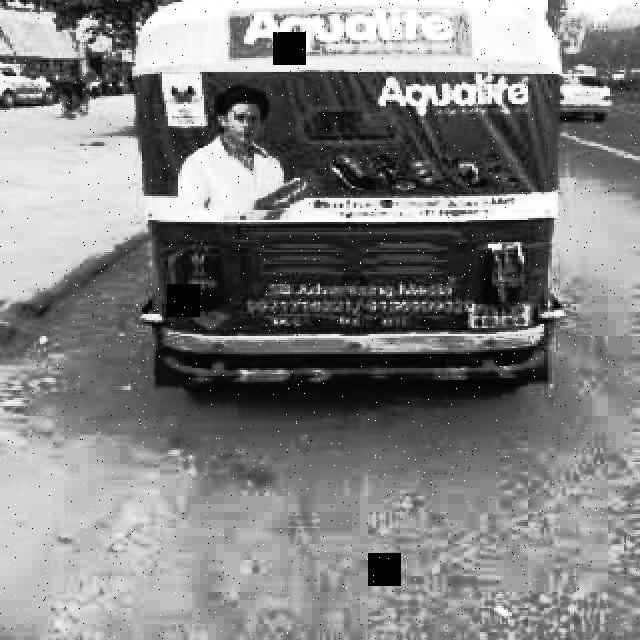Auto-Rickshaw: (118, 2, 560, 408)
